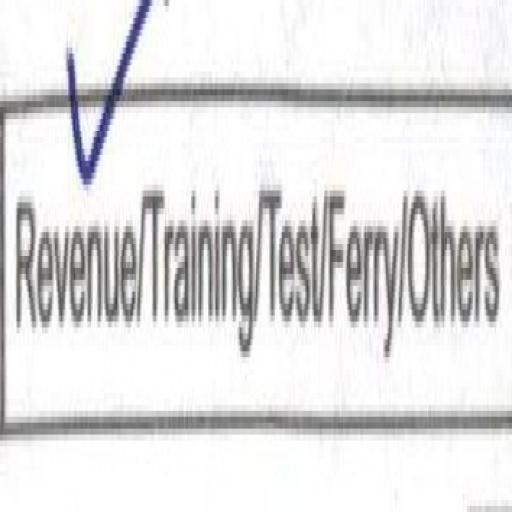check: (2, 0, 140, 462)
